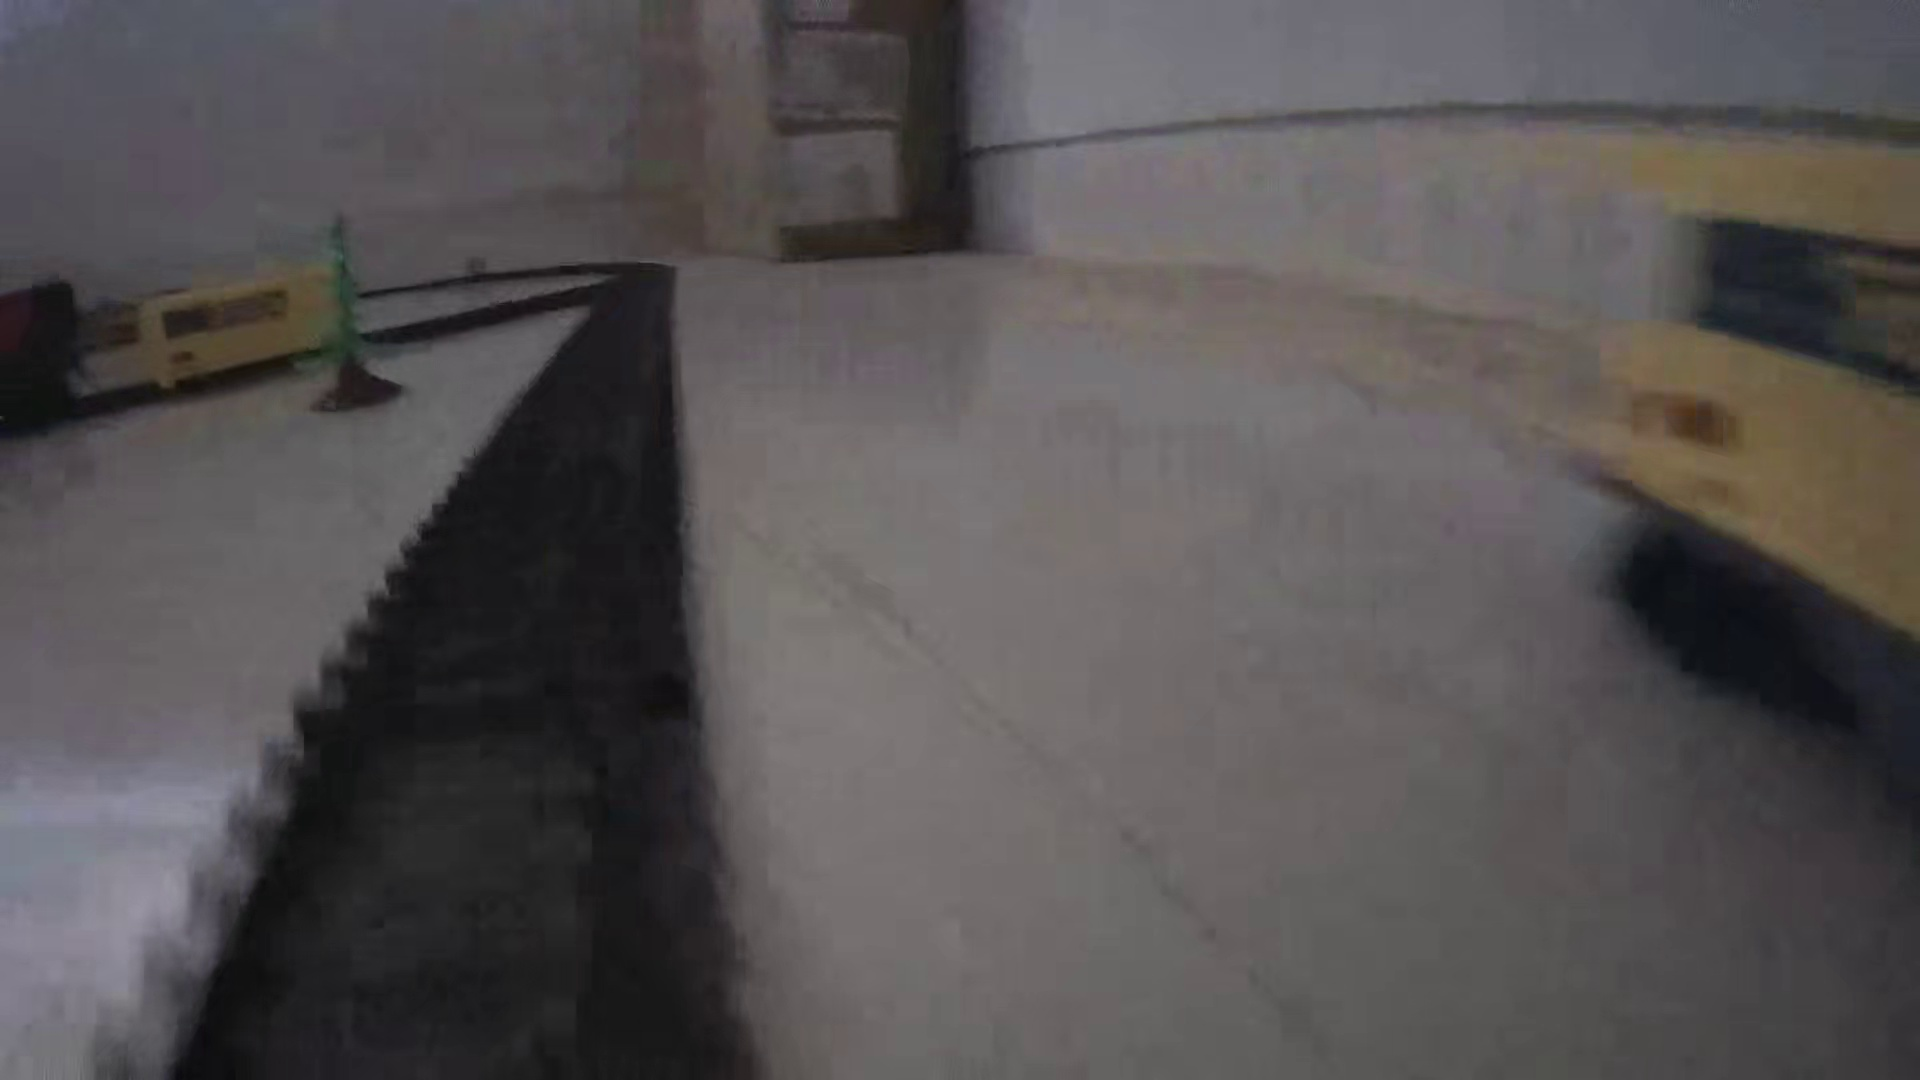tree: (299, 206, 410, 416)
